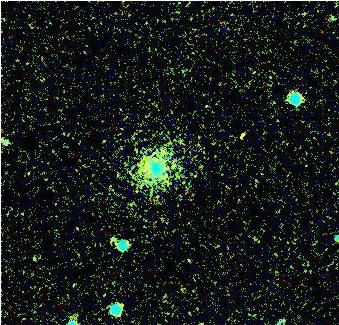star: (226, 122, 256, 152)
